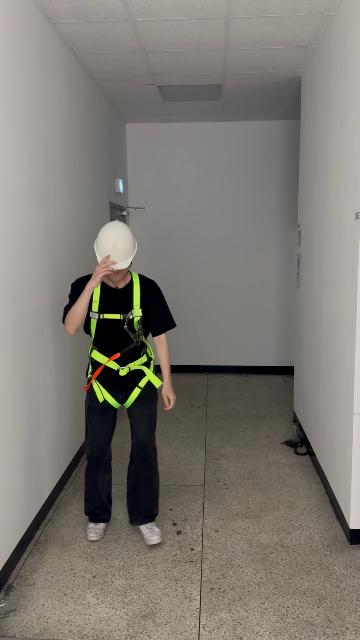helmet_worn: (95, 221, 140, 271)
shoe_not_worn: (134, 521, 161, 544), (86, 520, 107, 541)
vest_worn: (83, 275, 160, 408)
